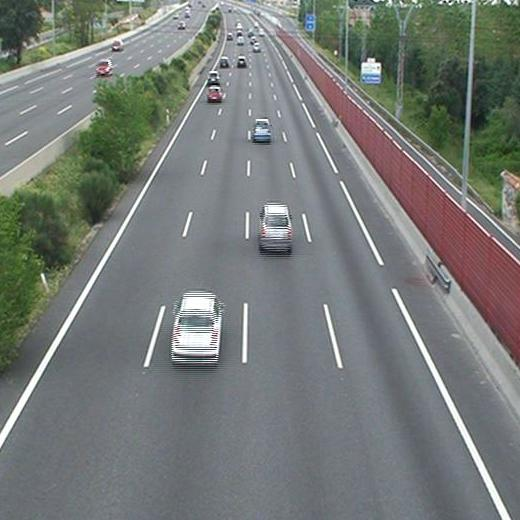car: (171, 292, 220, 362), (259, 205, 293, 251), (253, 119, 271, 142), (208, 87, 221, 101), (208, 71, 220, 85), (237, 56, 247, 68), (219, 57, 229, 67), (252, 44, 260, 52), (237, 37, 244, 44)
